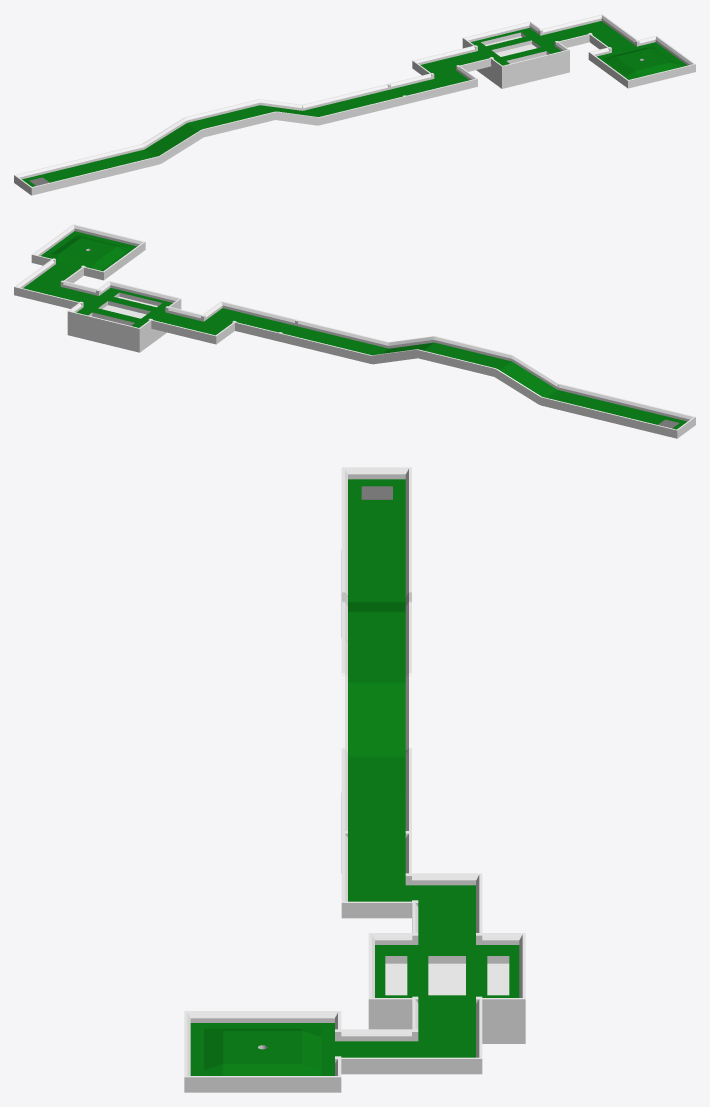
Rendered from Level10Model.obj.
3 views of the same model, one above another, from view 1: azimuth 30°, elevation 25°; view 2: azimuth 150°, elevation 25°; view 3: azimuth 270°, elevation 25° (orthographic). The views are drawn at different scales.
Visible parts, largest first — view 1: polySurface607; view 2: polySurface607; view 3: polySurface607.
Boxes of the visible parts, x1,y1,x2,y2 form: polySurface607: [14, 14, 695, 195]; polySurface607: [14, 224, 695, 438]; polySurface607: [184, 467, 525, 1092].
Size of the model in its own units: 45.99 by 2.72 by 10.88.
6 materials, 5 textured.
